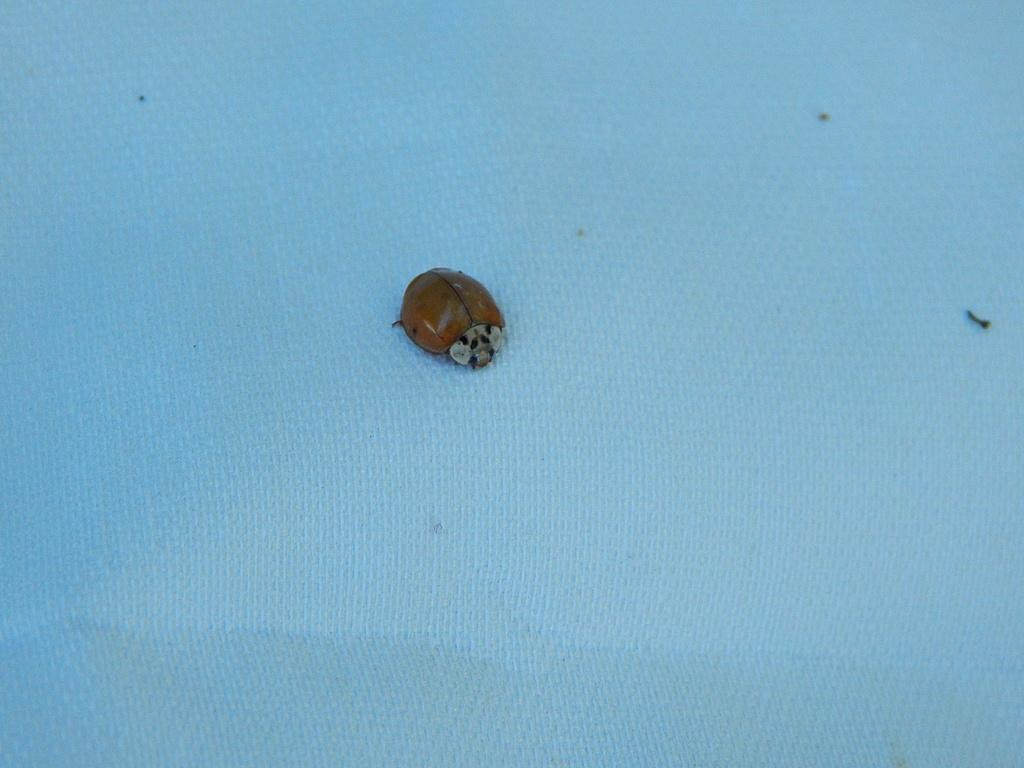ladybug: (391, 264, 511, 375)
